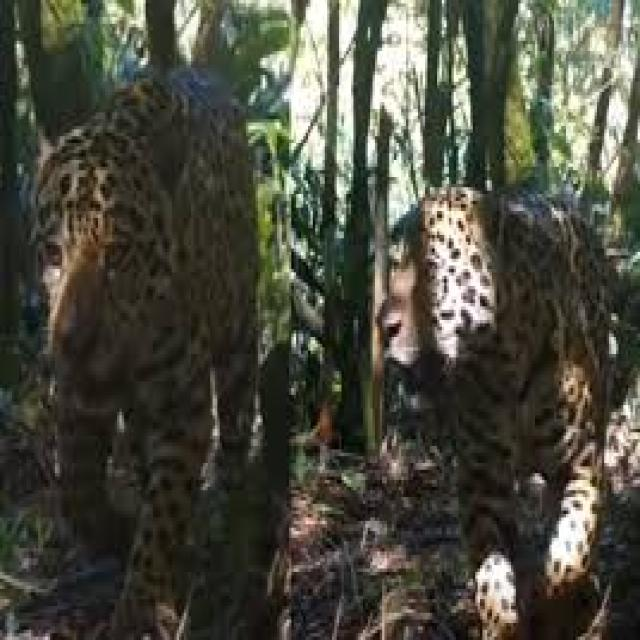Jaguar: (29, 61, 262, 640), (372, 184, 640, 640)
